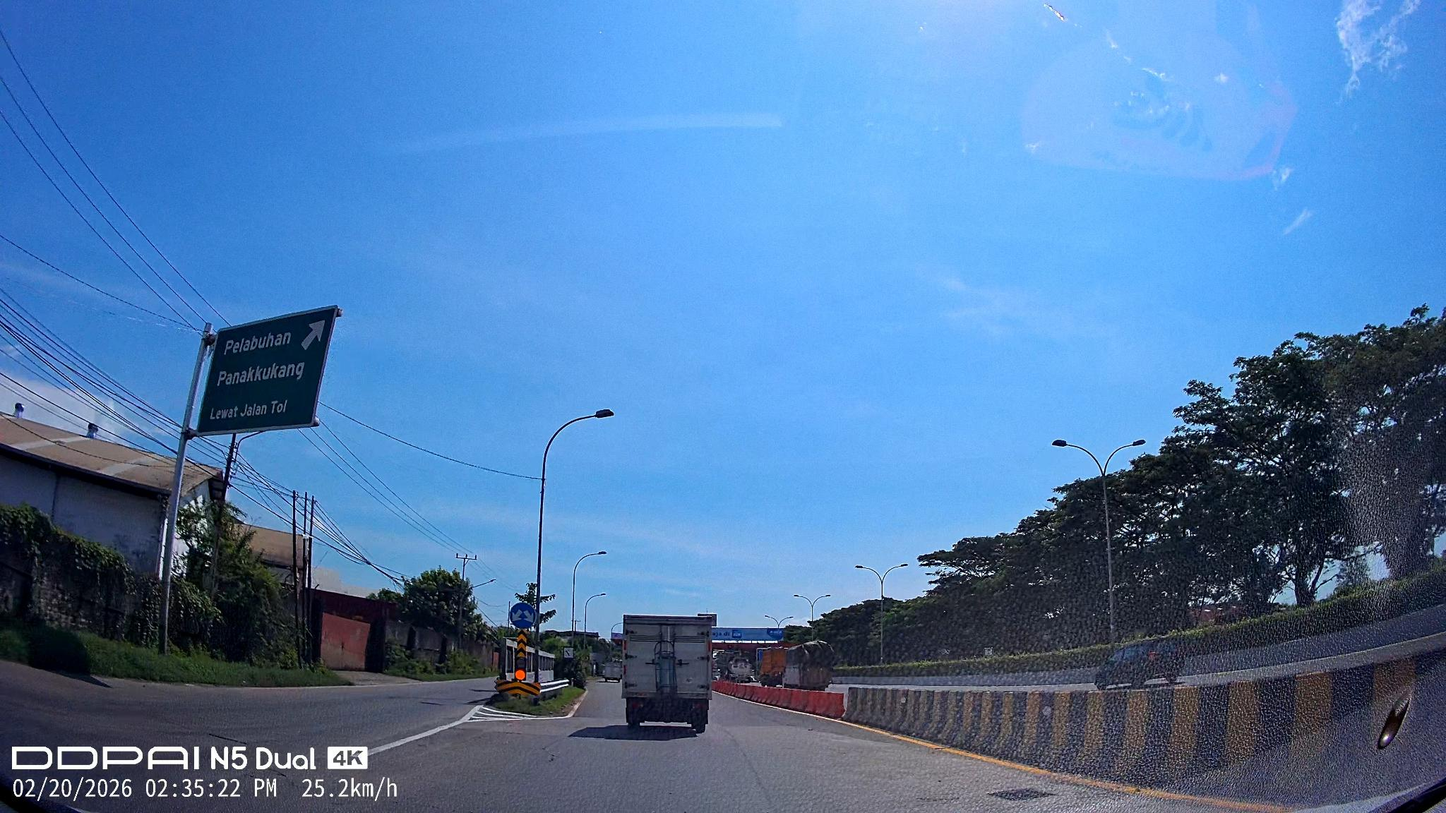rambu_teks: (195, 303, 339, 437)
